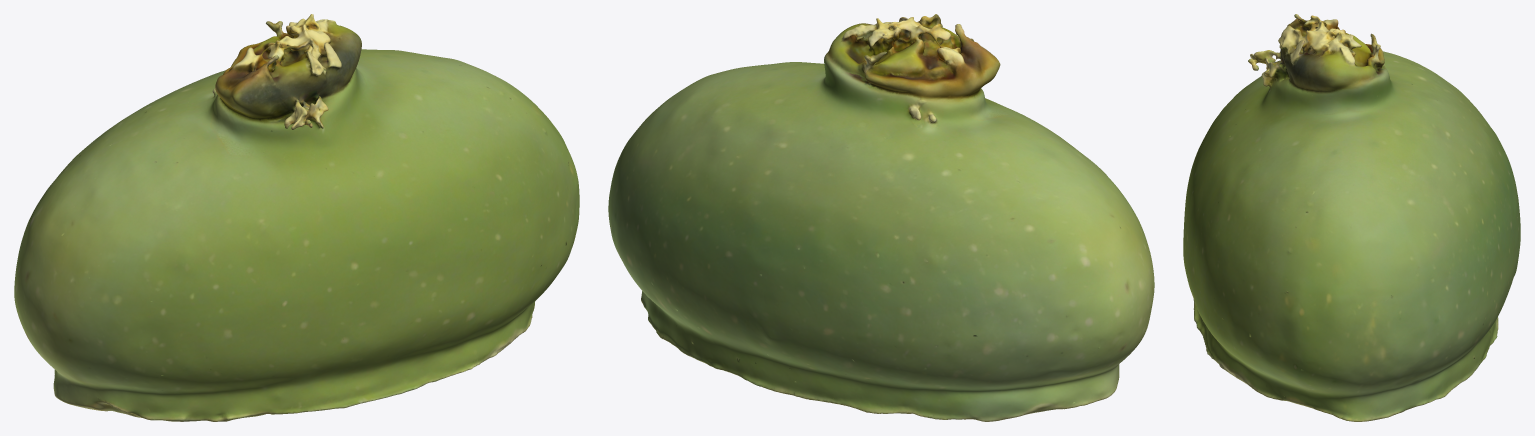
The model's file is datte-pistache.glb.
3 views of the same model, side by side, from view 1: azimuth 30°, elevation 25°; view 2: azimuth 150°, elevation 25°; view 3: azimuth 270°, elevation 25° (orthographic). The views are drawn at different scales.
Bounding box in the file's own units: 2 × 1.19 × 1.24.
1 material, 1 textured.
